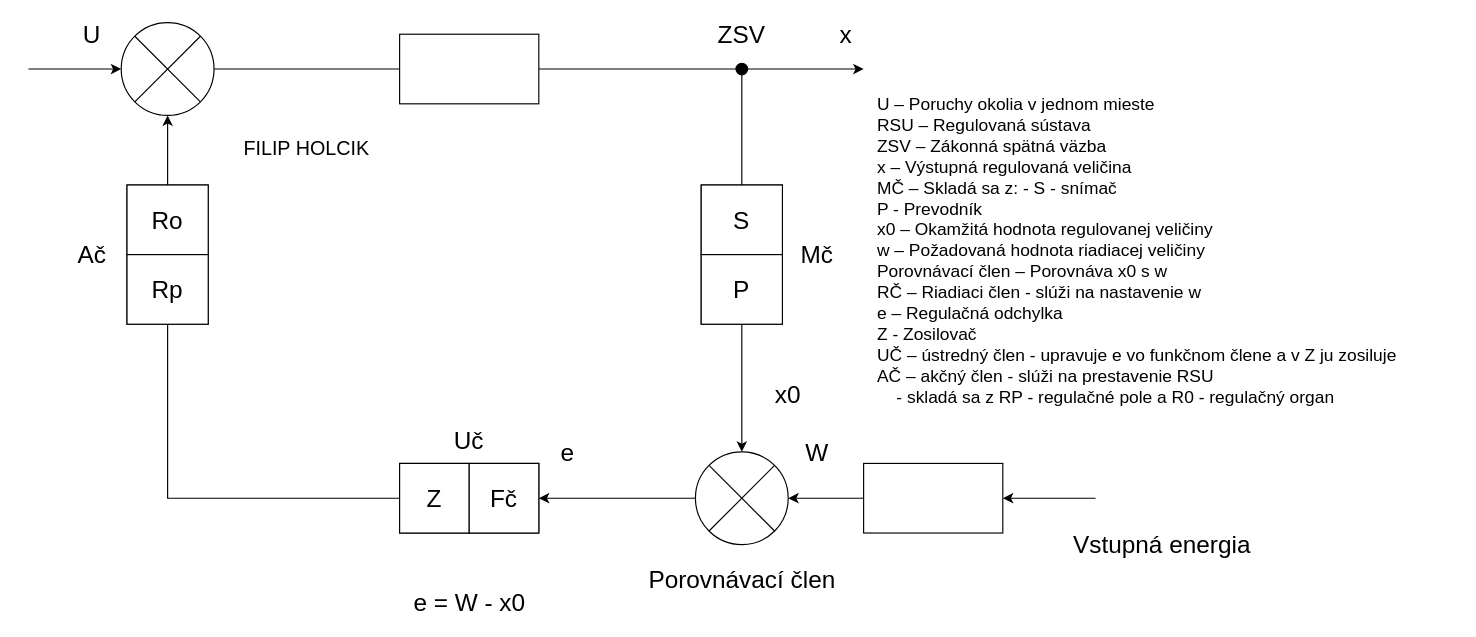
The diagram is 1476 pixels wide and 637 high, and some of its shapes have lost their labels. The centre of each missing label's shape, as x and y in pixels:
RSU: point 468,68
Rč: point 932,497
